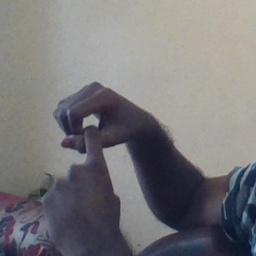Q: (46, 80, 140, 225)
